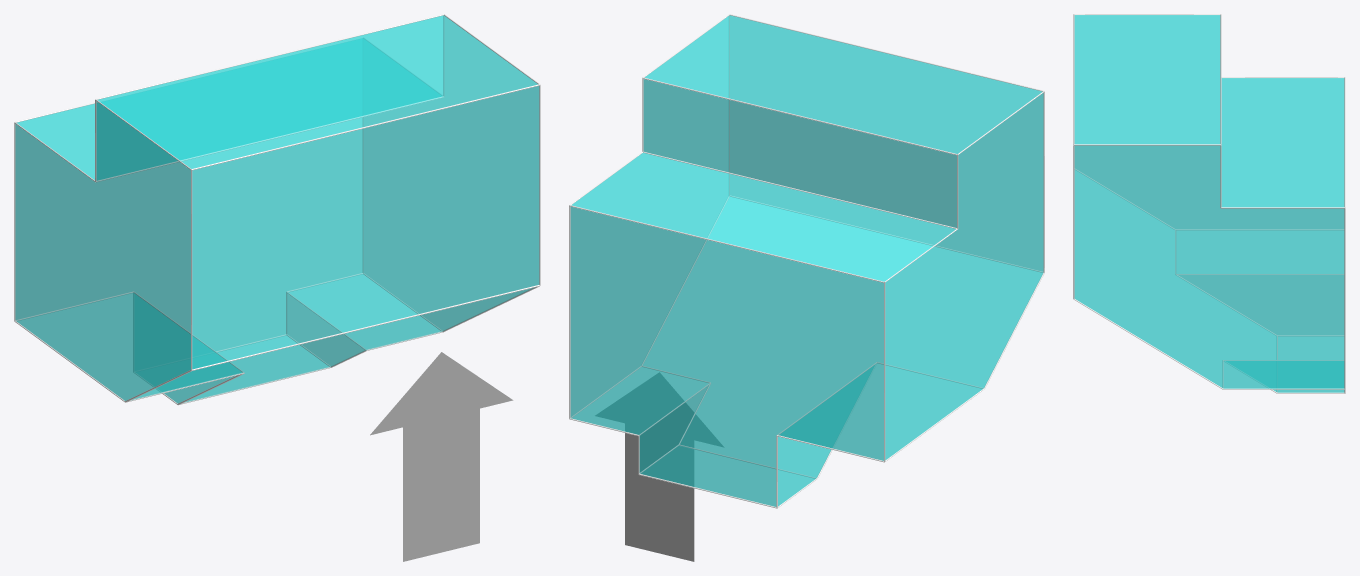
3 views of the same model, side by side, from view 1: azimuth 30°, elevation 25°; view 2: azimuth 150°, elevation 25°; view 3: azimuth 270°, elevation 25° (orthographic). The views are drawn at different scales.
Visible parts, largest first — view 1: Pipe33, Pipe27, Pipe21, Pipe9, Pipe32; view 2: Pipe33, Pipe18, Pipe9, Pipe27, Pipe32; view 3: Pipe33, Pipe19.
Boxes of the visible parts, x1,y1,x2,y2 form: Pipe33: (15, 15, 539, 561); Pipe27: (191, 84, 539, 170); Pipe21: (192, 285, 539, 370); Pipe9: (96, 14, 443, 99); Pipe32: (96, 96, 444, 182); Pipe33: (570, 15, 1043, 561); Pipe18: (569, 205, 884, 282); Pipe9: (642, 77, 957, 155); Pipe27: (729, 14, 1043, 91); Pipe32: (643, 151, 956, 228); Pipe33: (1074, 15, 1344, 393); Pipe19: (1344, 208, 1345, 389).
Bounding box in the file's own units: 53.68 × 66.24 × 40.2.
